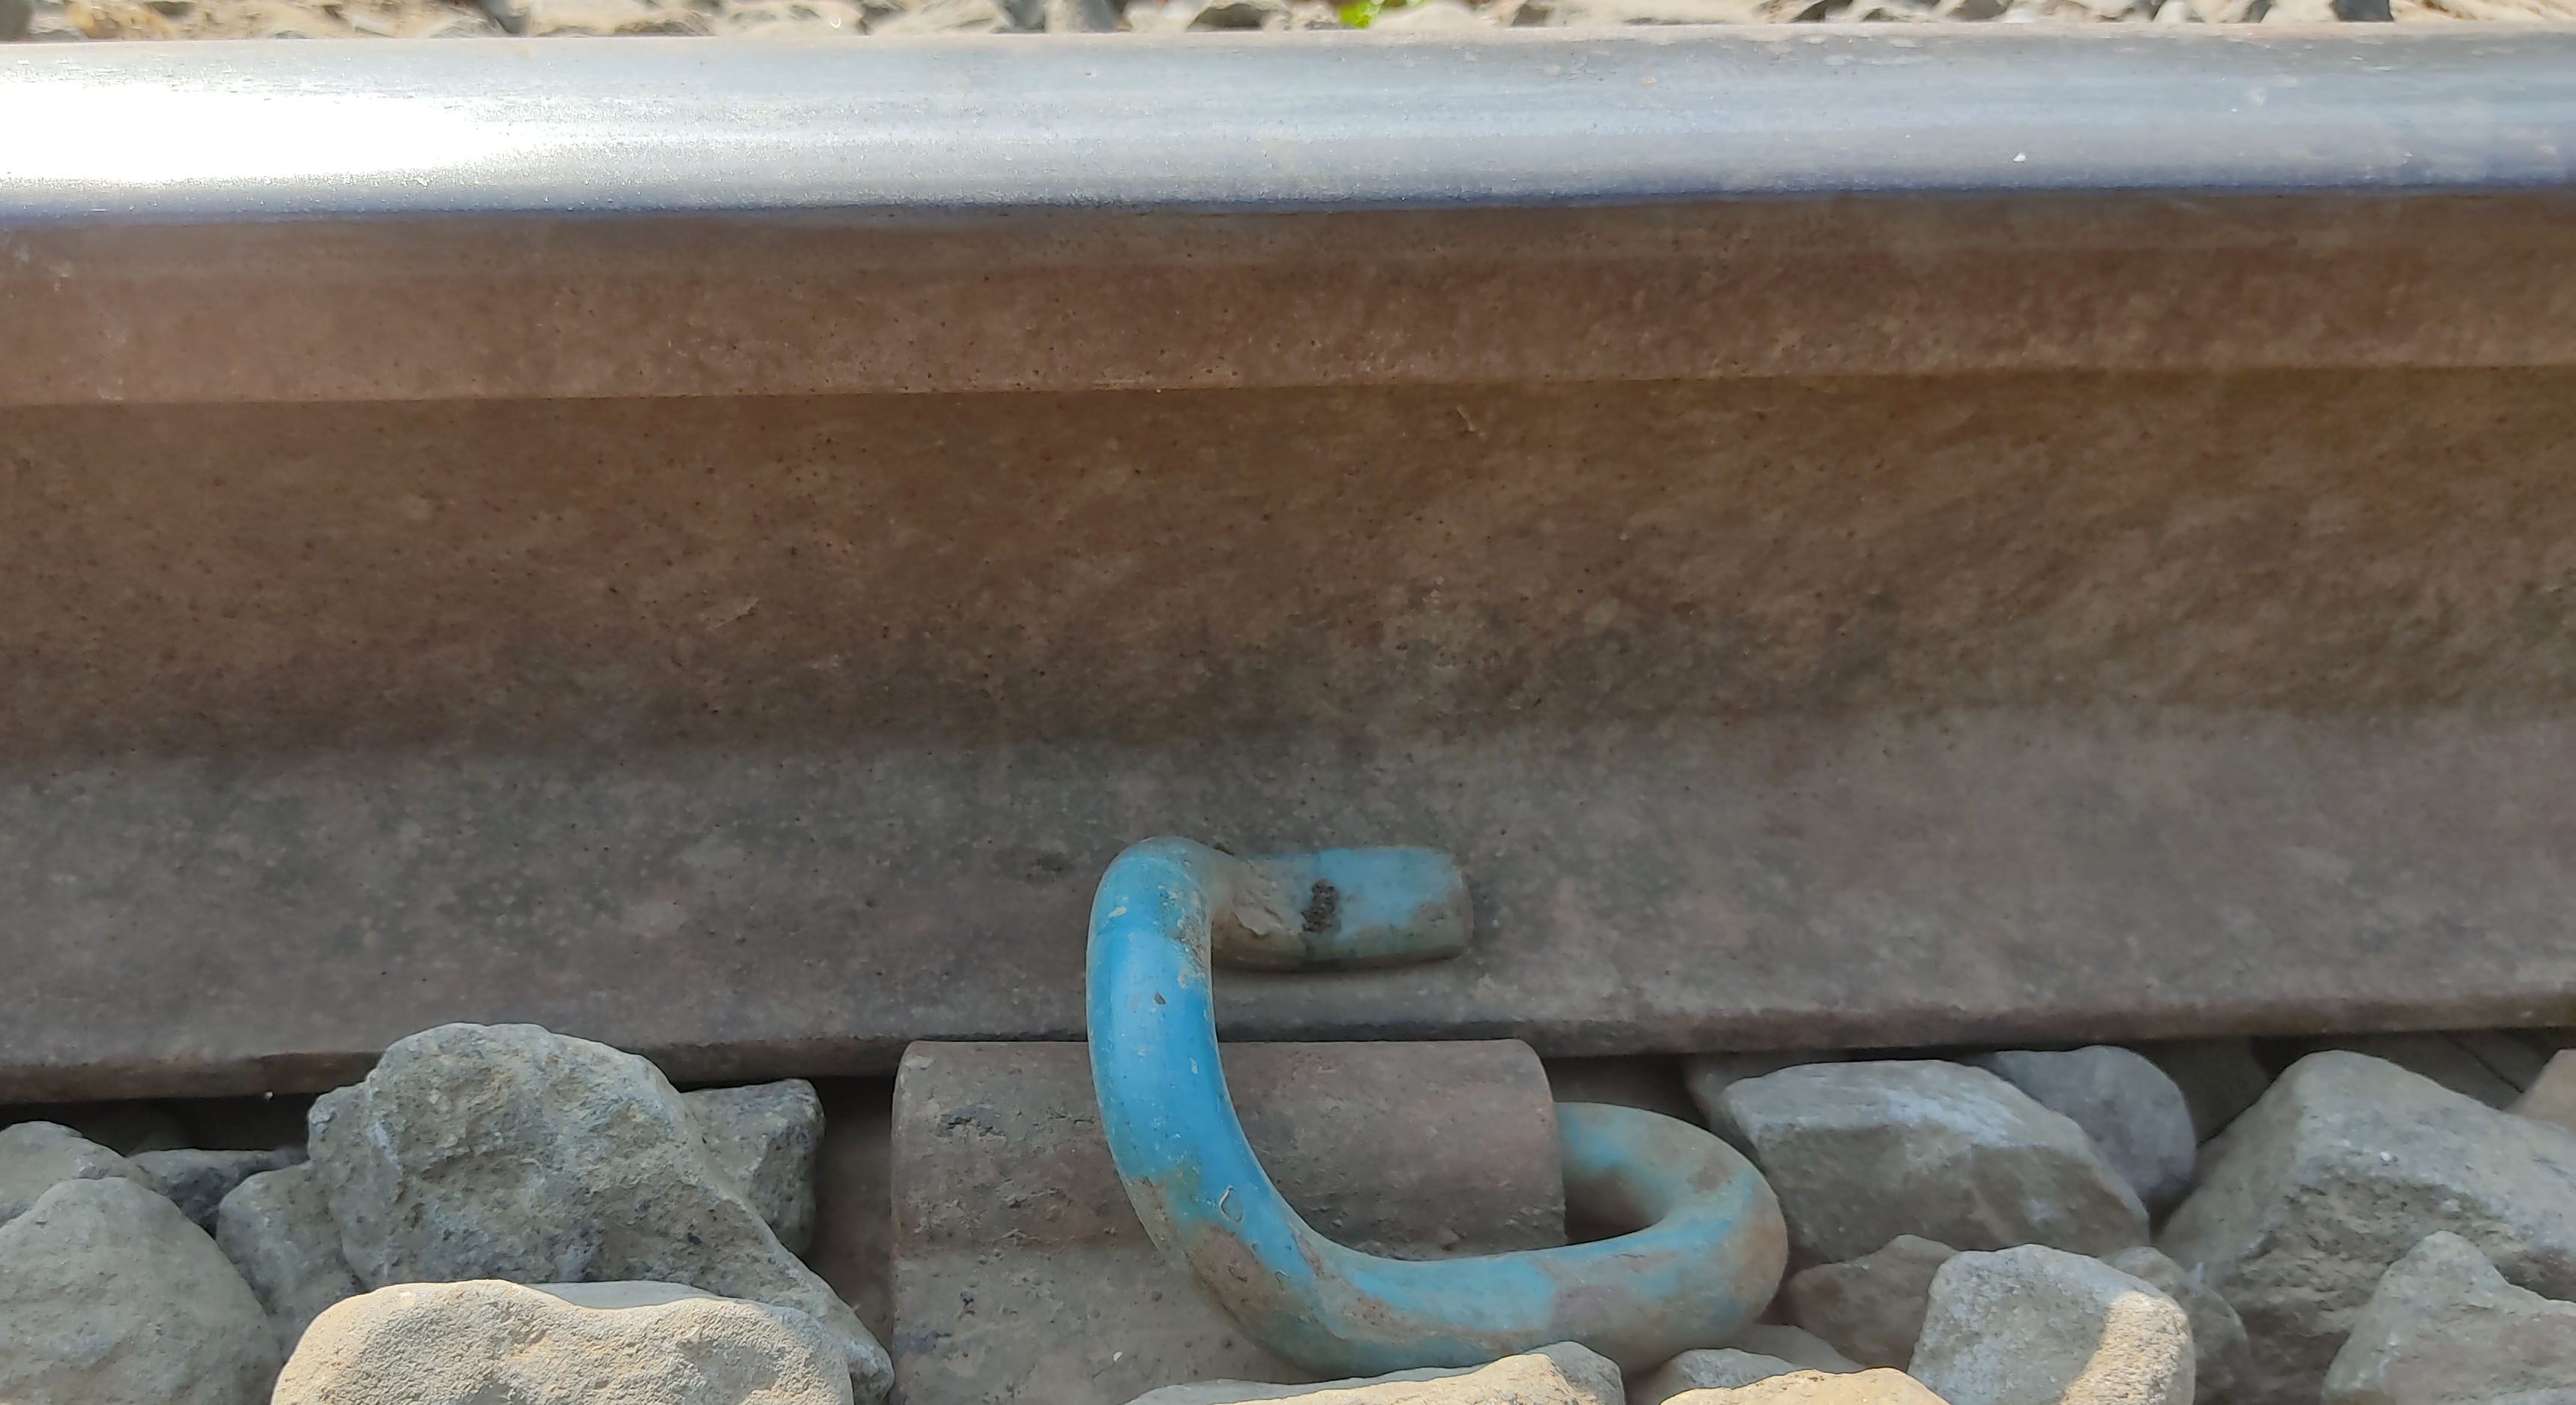error1: (907, 779, 1746, 1365)
